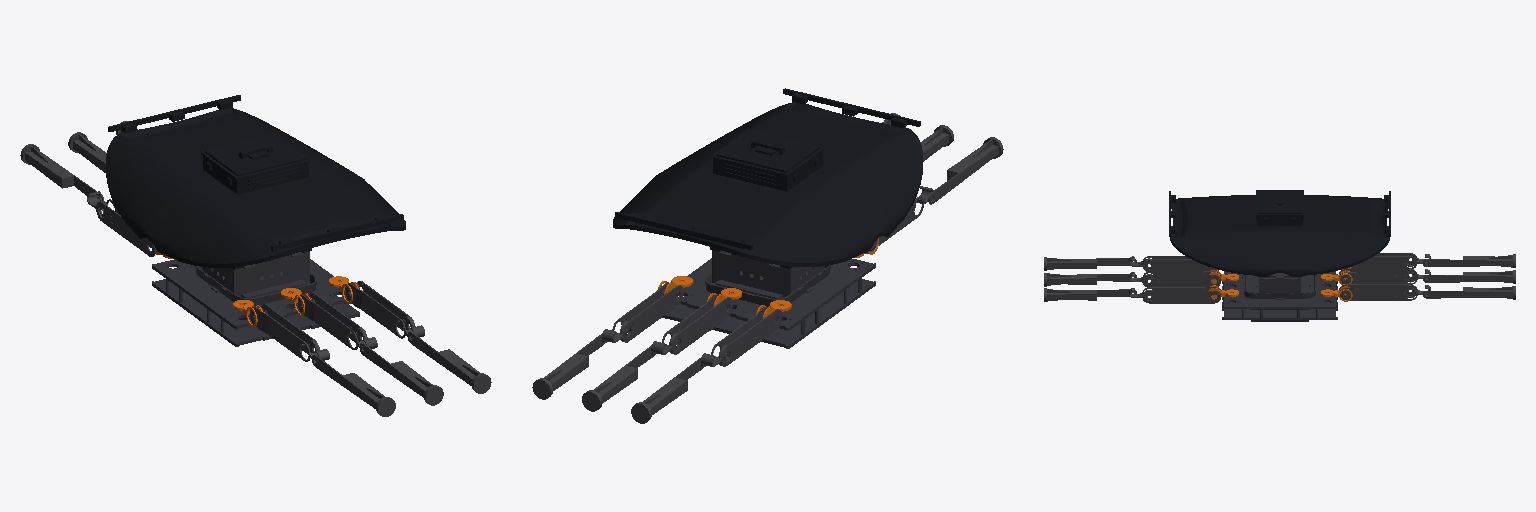
robot.urdf — hexapod:
<?xml version="1.0" encoding="utf-8"?>






<robot name="hexapod">

  
  <link name="base_link">
    <inertial>
      <origin xyz="0 0 0.05" rpy="0 0 0"/>
      <mass value="35.0"/>
      <inertia ixx="2.14" ixy="0.0" ixz="0.0" iyy="2.24" iyz="0.0" izz="4.02"/>
    </inertial>
    <visual>
      <origin xyz="0 0 0" rpy="0 0 0"/>
      <geometry>
        <mesh filename="meshes/base_link.stl" scale="0.001 0.001 0.001"/>
      </geometry>
      <material name="chassis_grey">
        <color rgba="0.25 0.25 0.28 1.0"/>
      </material>
    </visual>
    
    <visual>
      <origin xyz="0 0 0" rpy="0 0 0"/>
      <geometry>
        <mesh filename="meshes/top_cover.stl" scale="0.001 0.001 0.001"/>
      </geometry>
      <material name="carapace_carbon">
        <color rgba="0.13 0.14 0.16 1.0"/>
      </material>
    </visual>
    <collision>
      <origin xyz="0 0 0.02" rpy="0 0 0"/>
      <geometry>
        <box size="0.84 0.60 0.28"/>
      </geometry>
    </collision>
  </link>

  
  
  

  
  <joint name="LF_hip_joint" type="revolute">
    <origin xyz="0.320 0.410 0.1085" rpy="0 0 0"/>
    <parent link="base_link"/>
    <child link="LF_coxa"/>
    <axis xyz="0 0 1"/>
    <limit lower="-0.785" upper="0.785" effort="60.0" velocity="20.0"/>
    <dynamics damping="1.5" friction="0.1"/>
  </joint>

  <link name="LF_coxa">
    <inertial>
      <origin xyz="0 0.078 0.0" rpy="0 0 0"/>
      <mass value="2.02"/>
      <inertia ixx="0.009" ixy="0" ixz="0" iyy="0.007" iyz="0" izz="0.012"/>
    </inertial>
    <visual>
      <origin xyz="0 0 0" rpy="0 0 0"/>
      <geometry>
        <mesh filename="meshes/coxa_link.stl" scale="0.001 0.001 0.001"/>
      </geometry>
      <material name="accent_orange">
        <color rgba="0.85 0.45 0.1 1.0"/>
      </material>
    </visual>
    <collision>
      <origin xyz="0 0.078 0.0" rpy="0 0 0"/>
      <geometry>
        <box size="0.12 0.18 0.12"/>
      </geometry>
    </collision>
  </link>

  <joint name="LF_femur_joint" type="revolute">
    <origin xyz="0 0.157 0" rpy="0 0 0"/>
    <parent link="LF_coxa"/>
    <child link="LF_femur"/>
    <axis xyz="1 0 0"/>
    <limit lower="-1.047" upper="1.047" effort="60.0" velocity="20.0"/>
    <dynamics damping="2.0" friction="0.1"/>
  </joint>

  <link name="LF_femur">
    <inertial>
      <origin xyz="0 0.350 0.0" rpy="0 0 0"/>
      <mass value="3.49"/>
      <inertia ixx="0.018" ixy="0" ixz="0" iyy="0.082" iyz="0" izz="0.085"/>
    </inertial>
    <visual>
      <origin xyz="0 0 0" rpy="0 0 0"/>
      <geometry>
        <mesh filename="meshes/femur_link.stl" scale="0.001 0.001 0.001"/>
      </geometry>
      <material name="link_grey">
        <color rgba="0.3 0.3 0.32 1.0"/>
      </material>
    </visual>
    <collision>
      <origin xyz="0 0.350 0.0" rpy="1.5707963 0 0"/>
      <geometry>
        <cylinder radius="0.06" length="0.70"/>
      </geometry>
    </collision>
  </link>

  <joint name="LF_tibia_joint" type="revolute">
    <origin xyz="0 0.700 0" rpy="0 0 0"/>
    <parent link="LF_femur"/>
    <child link="LF_tibia"/>
    <axis xyz="1 0 0"/>
    <limit lower="-2.094" upper="0.349" effort="60.0" velocity="20.0"/>
    <dynamics damping="2.0" friction="0.1"/>
  </joint>

  <link name="LF_tibia">
    <inertial>
      <origin xyz="0 0.380 0.0" rpy="0 0 0"/>
      <mass value="4.71"/>
      <inertia ixx="0.215" ixy="0" ixz="0" iyy="0.218" iyz="0" izz="0.015"/>
    </inertial>
    <visual>
      <origin xyz="0 0 0" rpy="0 0 0"/>
      <geometry>
        <mesh filename="meshes/tibia_link.stl" scale="0.001 0.001 0.001"/>
      </geometry>
      <material name="link_grey"/>
    </visual>
    <collision>
      <origin xyz="0 0.380 0.0" rpy="1.5707963 0 0"/>
      <geometry>
        <cylinder radius="0.05" length="0.76"/>
      </geometry>
    </collision>
  </link>

  <joint name="LF_foot_joint" type="fixed">
    <origin xyz="0 0.764 0" rpy="0 0 0"/>
    <parent link="LF_tibia"/>
    <child link="LF_foot"/>
  </joint>

  <link name="LF_foot">
    <inertial>
      <origin xyz="0 0 0" rpy="0 0 0"/>
      <mass value="0.20"/>
      <inertia ixx="0.0003" ixy="0" ixz="0" iyy="0.0003" iyz="0" izz="0.0003"/>
    </inertial>
    <collision>
      <origin xyz="0 0 0" rpy="0 0 0"/>
      <geometry>
        <sphere radius="0.045"/>
      </geometry>
    </collision>
  </link>

  
  <joint name="LM_hip_joint" type="revolute">
    <origin xyz="0.000 0.410 0.1085" rpy="0 0 0"/>
    <parent link="base_link"/>
    <child link="LM_coxa"/>
    <axis xyz="0 0 1"/>
    <limit lower="-0.785" upper="0.785" effort="60.0" velocity="20.0"/>
    <dynamics damping="1.5" friction="0.1"/>
  </joint>

  <link name="LM_coxa">
    <inertial>
      <origin xyz="0 0.078 0.0" rpy="0 0 0"/>
      <mass value="2.02"/>
      <inertia ixx="0.009" ixy="0" ixz="0" iyy="0.007" iyz="0" izz="0.012"/>
    </inertial>
    <visual>
      <origin xyz="0 0 0" rpy="0 0 0"/>
      <geometry>
        <mesh filename="meshes/coxa_link.stl" scale="0.001 0.001 0.001"/>
      </geometry>
      <material name="accent_orange"/>
    </visual>
    <collision>
      <origin xyz="0 0.078 0.0" rpy="0 0 0"/>
      <geometry>
        <box size="0.12 0.18 0.12"/>
      </geometry>
    </collision>
  </link>

  <joint name="LM_femur_joint" type="revolute">
    <origin xyz="0 0.157 0" rpy="0 0 0"/>
    <parent link="LM_coxa"/>
    <child link="LM_femur"/>
    <axis xyz="1 0 0"/>
    <limit lower="-1.047" upper="1.047" effort="60.0" velocity="20.0"/>
    <dynamics damping="2.0" friction="0.1"/>
  </joint>

  <link name="LM_femur">
    <inertial>
      <origin xyz="0 0.350 0.0" rpy="0 0 0"/>
      <mass value="3.49"/>
      <inertia ixx="0.018" ixy="0" ixz="0" iyy="0.082" iyz="0" izz="0.085"/>
    </inertial>
    <visual>
      <origin xyz="0 0 0" rpy="0 0 0"/>
      <geometry>
        <mesh filename="meshes/femur_link.stl" scale="0.001 0.001 0.001"/>
      </geometry>
      <material name="link_grey"/>
    </visual>
    <collision>
      <origin xyz="0 0.350 0.0" rpy="1.5707963 0 0"/>
      <geometry>
        <cylinder radius="0.06" length="0.70"/>
      </geometry>
    </collision>
  </link>

  <joint name="LM_tibia_joint" type="revolute">
    <origin xyz="0 0.700 0" rpy="0 0 0"/>
    <parent link="LM_femur"/>
    <child link="LM_tibia"/>
    <axis xyz="1 0 0"/>
    <limit lower="-2.094" upper="0.349" effort="60.0" velocity="20.0"/>
    <dynamics damping="2.0" friction="0.1"/>
  </joint>

  <link name="LM_tibia">
    <inertial>
      <origin xyz="0 0.380 0.0" rpy="0 0 0"/>
      <mass value="4.71"/>
      <inertia ixx="0.215" ixy="0" ixz="0" iyy="0.218" iyz="0" izz="0.015"/>
    </inertial>
    <visual>
      <origin xyz="0 0 0" rpy="0 0 0"/>
      <geometry>
        <mesh filename="meshes/tibia_link.stl" scale="0.001 0.001 0.001"/>
      </geometry>
      <material name="link_grey"/>
    </visual>
    <collision>
      <origin xyz="0 0.380 0.0" rpy="1.5707963 0 0"/>
      <geometry>
        <cylinder radius="0.05" length="0.76"/>
      </geometry>
    </collision>
  </link>

  <joint name="LM_foot_joint" type="fixed">
    <origin xyz="0 0.764 0" rpy="0 0 0"/>
    <parent link="LM_tibia"/>
    <child link="LM_foot"/>
  </joint>

  <link name="LM_foot">
    <inertial>
      <origin xyz="0 0 0" rpy="0 0 0"/>
      <mass value="0.20"/>
      <inertia ixx="0.0003" ixy="0" ixz="0" iyy="0.0003" iyz="0" izz="0.0003"/>
    </inertial>
    <collision>
      <origin xyz="0 0 0" rpy="0 0 0"/>
      <geometry>
        <sphere radius="0.045"/>
      </geometry>
    </collision>
  </link>

  
  <joint name="LR_hip_joint" type="revolute">
    <origin xyz="-0.320 0.410 0.1085" rpy="0 0 0"/>
    <parent link="base_link"/>
    <child link="LR_coxa"/>
    <axis xyz="0 0 1"/>
    <limit lower="-0.785" upper="0.785" effort="60.0" velocity="20.0"/>
    <dynamics damping="1.5" friction="0.1"/>
  </joint>

  <link name="LR_coxa">
    <inertial>
      <origin xyz="0 0.078 0.0" rpy="0 0 0"/>
      <mass value="2.02"/>
      <inertia ixx="0.009" ixy="0" ixz="0" iyy="0.007" iyz="0" izz="0.012"/>
    </inertial>
    <visual>
      <origin xyz="0 0 0" rpy="0 0 0"/>
      <geometry>
        <mesh filename="meshes/coxa_link.stl" scale="0.001 0.001 0.001"/>
      </geometry>
      <material name="accent_orange"/>
    </visual>
    <collision>
      <origin xyz="0 0.078 0.0" rpy="0 0 0"/>
      <geometry>
        <box size="0.12 0.18 0.12"/>
      </geometry>
    </collision>
  </link>

  <joint name="LR_femur_joint" type="revolute">
    <origin xyz="0 0.157 0" rpy="0 0 0"/>
    <parent link="LR_coxa"/>
    <child link="LR_femur"/>
    <axis xyz="1 0 0"/>
    <limit lower="-1.047" upper="1.047" effort="60.0" velocity="20.0"/>
    <dynamics damping="2.0" friction="0.1"/>
  </joint>

  <link name="LR_femur">
    <inertial>
      <origin xyz="0 0.350 0.0" rpy="0 0 0"/>
      <mass value="3.49"/>
      <inertia ixx="0.018" ixy="0" ixz="0" iyy="0.082" iyz="0" izz="0.085"/>
    </inertial>
    <visual>
      <origin xyz="0 0 0" rpy="0 0 0"/>
      <geometry>
        <mesh filename="meshes/femur_link.stl" scale="0.001 0.001 0.001"/>
      </geometry>
      <material name="link_grey"/>
    </visual>
    <collision>
      <origin xyz="0 0.350 0.0" rpy="1.5707963 0 0"/>
      <geometry>
        <cylinder radius="0.06" length="0.70"/>
      </geometry>
    </collision>
  </link>

  <joint name="LR_tibia_joint" type="revolute">
    <origin xyz="0 0.700 0" rpy="0 0 0"/>
    <parent link="LR_femur"/>
    <child link="LR_tibia"/>
    <axis xyz="1 0 0"/>
    <limit lower="-2.094" upper="0.349" effort="60.0" velocity="20.0"/>
    <dynamics damping="2.0" friction="0.1"/>
  </joint>

  <link name="LR_tibia">
    <inertial>
      <origin xyz="0 0.380 0.0" rpy="0 0 0"/>
      <mass value="4.71"/>
      <inertia ixx="0.215" ixy="0" ixz="0" iyy="0.218" iyz="0" izz="0.015"/>
    </inertial>
    <visual>
      <origin xyz="0 0 0" rpy="0 0 0"/>
      <geometry>
        <mesh filename="meshes/tibia_link.stl" scale="0.001 0.001 0.001"/>
      </geometry>
      <material name="link_grey"/>
    </visual>
    <collision>
      <origin xyz="0 0.380 0.0" rpy="1.5707963 0 0"/>
      <geometry>
        <cylinder radius="0.05" length="0.76"/>
      </geometry>
    </collision>
  </link>

  <joint name="LR_foot_joint" type="fixed">
    <origin xyz="0 0.764 0" rpy="0 0 0"/>
    <parent link="LR_tibia"/>
    <child link="LR_foot"/>
  </joint>

  <link name="LR_foot">
    <inertial>
      <origin xyz="0 0 0" rpy="0 0 0"/>
      <mass value="0.20"/>
      <inertia ixx="0.0003" ixy="0" ixz="0" iyy="0.0003" iyz="0" izz="0.0003"/>
    </inertial>
    <collision>
      <origin xyz="0 0 0" rpy="0 0 0"/>
      <geometry>
        <sphere radius="0.045"/>
      </geometry>
    </collision>
  </link>

  
  
  
  

  
  <joint name="RF_hip_joint" type="revolute">
    <origin xyz="0.320 -0.410 0.1085" rpy="0 0 3.14159265"/>
    <parent link="base_link"/>
    <child link="RF_coxa"/>
    <axis xyz="0 0 1"/>
    <limit lower="-0.785" upper="0.785" effort="60.0" velocity="20.0"/>
    <dynamics damping="1.5" friction="0.1"/>
  </joint>

  <link name="RF_coxa">
    <inertial>
      <origin xyz="0 0.078 0.0" rpy="0 0 0"/>
      <mass value="2.02"/>
      <inertia ixx="0.009" ixy="0" ixz="0" iyy="0.007" iyz="0" izz="0.012"/>
    </inertial>
    <visual>
      <origin xyz="0 0 0" rpy="0 0 0"/>
      <geometry>
        <mesh filename="meshes/coxa_link.stl" scale="0.001 0.001 0.001"/>
      </geometry>
      <material name="accent_orange"/>
    </visual>
    <collision>
      <origin xyz="0 0.078 0.0" rpy="0 0 0"/>
      <geometry>
        <box size="0.12 0.18 0.12"/>
      </geometry>
    </collision>
  </link>

  <joint name="RF_femur_joint" type="revolute">
    <origin xyz="0 0.157 0" rpy="0 0 0"/>
    <parent link="RF_coxa"/>
    <child link="RF_femur"/>
    <axis xyz="1 0 0"/>
    <limit lower="-1.047" upper="1.047" effort="60.0" velocity="20.0"/>
    <dynamics damping="2.0" friction="0.1"/>
  </joint>

  <link name="RF_femur">
    <inertial>
      <origin xyz="0 0.350 0.0" rpy="0 0 0"/>
      <mass value="3.49"/>
      <inertia ixx="0.018" ixy="0" ixz="0" iyy="0.082" iyz="0" izz="0.085"/>
    </inertial>
    <visual>
      <origin xyz="0 0 0" rpy="0 0 0"/>
      <geometry>
        <mesh filename="meshes/femur_link.stl" scale="0.001 0.001 0.001"/>
      </geometry>
      <material name="link_grey"/>
    </visual>
    <collision>
      <origin xyz="0 0.350 0.0" rpy="1.5707963 0 0"/>
      <geometry>
        <cylinder radius="0.06" length="0.70"/>
      </geometry>
    </collision>
  </link>

  <joint name="RF_tibia_joint" type="revolute">
    <origin xyz="0 0.700 0" rpy="0 0 0"/>
    <parent link="RF_femur"/>
    <child link="RF_tibia"/>
    <axis xyz="1 0 0"/>
    <limit lower="-2.094" upper="0.349" effort="60.0" velocity="20.0"/>
    <dynamics damping="2.0" friction="0.1"/>
  </joint>

  <link name="RF_tibia">
    <inertial>
      <origin xyz="0 0.380 0.0" rpy="0 0 0"/>
      <mass value="4.71"/>
      <inertia ixx="0.215" ixy="0" ixz="0" iyy="0.218" iyz="0" izz="0.015"/>
    </inertial>
    <visual>
      <origin xyz="0 0 0" rpy="0 0 0"/>
      <geometry>
        <mesh filename="meshes/tibia_link.stl" scale="0.001 0.001 0.001"/>
      </geometry>
      <material name="link_grey"/>
    </visual>
    <collision>
      <origin xyz="0 0.380 0.0" rpy="1.5707963 0 0"/>
      <geometry>
        <cylinder radius="0.05" length="0.76"/>
      </geometry>
    </collision>
  </link>

  <joint name="RF_foot_joint" type="fixed">
    <origin xyz="0 0.764 0" rpy="0 0 0"/>
    <parent link="RF_tibia"/>
    <child link="RF_foot"/>
  </joint>

  <link name="RF_foot">
    <inertial>
      <origin xyz="0 0 0" rpy="0 0 0"/>
      <mass value="0.20"/>
      <inertia ixx="0.0003" ixy="0" ixz="0" iyy="0.0003" iyz="0" izz="0.0003"/>
    </inertial>
    <collision>
      <origin xyz="0 0 0" rpy="0 0 0"/>
      <geometry>
        <sphere radius="0.045"/>
      </geometry>
    </collision>
  </link>

  
  <joint name="RM_hip_joint" type="revolute">
    <origin xyz="0.000 -0.410 0.1085" rpy="0 0 3.14159265"/>
    <parent link="base_link"/>
    <child link="RM_coxa"/>
    <axis xyz="0 0 1"/>
    <limit lower="-0.785" upper="0.785" effort="60.0" velocity="20.0"/>
    <dynamics damping="1.5" friction="0.1"/>
  </joint>

  <link name="RM_coxa">
    <inertial>
      <origin xyz="0 0.078 0.0" rpy="0 0 0"/>
      <mass value="2.02"/>
      <inertia ixx="0.009" ixy="0" ixz="0" iyy="0.007" iyz="0" izz="0.012"/>
    </inertial>
    <visual>
      <origin xyz="0 0 0" rpy="0 0 0"/>
      <geometry>
        <mesh filename="meshes/coxa_link.stl" scale="0.001 0.001 0.001"/>
      </geometry>
      <material name="accent_orange"/>
    </visual>
    <collision>
      <origin xyz="0 0.078 0.0" rpy="0 0 0"/>
      <geometry>
        <box size="0.12 0.18 0.12"/>
      </geometry>
    </collision>
  </link>

  <joint name="RM_femur_joint" type="revolute">
    <origin xyz="0 0.157 0" rpy="0 0 0"/>
    <parent link="RM_coxa"/>
    <child link="RM_femur"/>
    <axis xyz="1 0 0"/>
    <limit lower="-1.047" upper="1.047" effort="60.0" velocity="20.0"/>
    <dynamics damping="2.0" friction="0.1"/>
  </joint>

  <link name="RM_femur">
    <inertial>
      <origin xyz="0 0.350 0.0" rpy="0 0 0"/>
      <mass value="3.49"/>
      <inertia ixx="0.018" ixy="0" ixz="0" iyy="0.082" iyz="0" izz="0.085"/>
    </inertial>
    <visual>
      <origin xyz="0 0 0" rpy="0 0 0"/>
      <geometry>
        <mesh filename="meshes/femur_link.stl" scale="0.001 0.001 0.001"/>
      </geometry>
      <material name="link_grey"/>
    </visual>
    <collision>
      <origin xyz="0 0.350 0.0" rpy="1.5707963 0 0"/>
      <geometry>
        <cylinder radius="0.06" length="0.70"/>
      </geometry>
    </collision>
  </link>

  <joint name="RM_tibia_joint" type="revolute">
    <origin xyz="0 0.700 0" rpy="0 0 0"/>
    <parent link="RM_femur"/>
    <child link="RM_tibia"/>
    <axis xyz="1 0 0"/>
    <limit lower="-2.094" upper="0.349" effort="60.0" velocity="20.0"/>
    <dynamics damping="2.0" friction="0.1"/>
  </joint>

  <link name="RM_tibia">
    <inertial>
      <origin xyz="0 0.380 0.0" rpy="0 0 0"/>
      <mass value="4.71"/>
      <inertia ixx="0.215" ixy="0" ixz="0" iyy="0.218" iyz="0" izz="0.015"/>
    </inertial>
    <visual>
      <origin xyz="0 0 0" rpy="0 0 0"/>
      <geometry>
        <mesh filename="meshes/tibia_link.stl" scale="0.001 0.001 0.001"/>
      </geometry>
      <material name="link_grey"/>
    </visual>
    <collision>
      <origin xyz="0 0.380 0.0" rpy="1.5707963 0 0"/>
      <geometry>
        <cylinder radius="0.05" length="0.76"/>
      </geometry>
    </collision>
  </link>

  <joint name="RM_foot_joint" type="fixed">
    <origin xyz="0 0.764 0" rpy="0 0 0"/>
    <parent link="RM_tibia"/>
    <child link="RM_foot"/>
  </joint>

  <link name="RM_foot">
    <inertial>
      <origin xyz="0 0 0" rpy="0 0 0"/>
      <mass value="0.20"/>
      <inertia ixx="0.0003" ixy="0" ixz="0" iyy="0.0003" iyz="0" izz="0.0003"/>
    </inertial>
    <collision>
      <origin xyz="0 0 0" rpy="0 0 0"/>
      <geometry>
        <sphere radius="0.045"/>
      </geometry>
    </collision>
  </link>

  
  <joint name="RR_hip_joint" type="revolute">
    <origin xyz="-0.320 -0.410 0.1085" rpy="0 0 3.14159265"/>
    <parent link="base_link"/>
    <child link="RR_coxa"/>
    <axis xyz="0 0 1"/>
    <limit lower="-0.785" upper="0.785" effort="60.0" velocity="20.0"/>
    <dynamics damping="1.5" friction="0.1"/>
  </joint>

  <link name="RR_coxa">
    <inertial>
      <origin xyz="0 0.078 0.0" rpy="0 0 0"/>
      <mass value="2.02"/>
      <inertia ixx="0.009" ixy="0" ixz="0" iyy="0.007" iyz="0" izz="0.012"/>
    </inertial>
    <visual>
      <origin xyz="0 0 0" rpy="0 0 0"/>
      <geometry>
        <mesh filename="meshes/coxa_link.stl" scale="0.001 0.001 0.001"/>
      </geometry>
      <material name="accent_orange"/>
    </visual>
    <collision>
      <origin xyz="0 0.078 0.0" rpy="0 0 0"/>
      <geometry>
        <box size="0.12 0.18 0.12"/>
      </geometry>
    </collision>
  </link>

  <joint name="RR_femur_joint" type="revolute">
    <origin xyz="0 0.157 0" rpy="0 0 0"/>
    <parent link="RR_coxa"/>
    <child link="RR_femur"/>
    <axis xyz="1 0 0"/>
    <limit lower="-1.047" upper="1.047" effort="60.0" velocity="20.0"/>
    <dynamics damping="2.0" friction="0.1"/>
  </joint>

  <link name="RR_femur">
    <inertial>
      <origin xyz="0 0.350 0.0" rpy="0 0 0"/>
      <mass value="3.49"/>
      <inertia ixx="0.018" ixy="0" ixz="0" iyy="0.082" iyz="0" izz="0.085"/>
    </inertial>
    <visual>
      <origin xyz="0 0 0" rpy="0 0 0"/>
      <geometry>
        <mesh filename="meshes/femur_link.stl" scale="0.001 0.001 0.001"/>
      </geometry>
      <material name="link_grey"/>
    </visual>
    <collision>
      <origin xyz="0 0.350 0.0" rpy="1.5707963 0 0"/>
      <geometry>
        <cylinder radius="0.06" length="0.70"/>
      </geometry>
    </collision>
  </link>

  <joint name="RR_tibia_joint" type="revolute">
    <origin xyz="0 0.700 0" rpy="0 0 0"/>
    <parent link="RR_femur"/>
    <child link="RR_tibia"/>
    <axis xyz="1 0 0"/>
    <limit lower="-2.094" upper="0.349" effort="60.0" velocity="20.0"/>
    <dynamics damping="2.0" friction="0.1"/>
  </joint>

  <link name="RR_tibia">
    <inertial>
      <origin xyz="0 0.380 0.0" rpy="0 0 0"/>
      <mass value="4.71"/>
      <inertia ixx="0.215" ixy="0" ixz="0" iyy="0.218" iyz="0" izz="0.015"/>
    </inertial>
    <visual>
      <origin xyz="0 0 0" rpy="0 0 0"/>
      <geometry>
        <mesh filename="meshes/tibia_link.stl" scale="0.001 0.001 0.001"/>
      </geometry>
      <material name="link_grey"/>
    </visual>
    <collision>
      <origin xyz="0 0.380 0.0" rpy="1.5707963 0 0"/>
      <geometry>
        <cylinder radius="0.05" length="0.76"/>
      </geometry>
    </collision>
  </link>

  <joint name="RR_foot_joint" type="fixed">
    <origin xyz="0 0.764 0" rpy="0 0 0"/>
    <parent link="RR_tibia"/>
    <child link="RR_foot"/>
  </joint>

  <link name="RR_foot">
    <inertial>
      <origin xyz="0 0 0" rpy="0 0 0"/>
      <mass value="0.20"/>
      <inertia ixx="0.0003" ixy="0" ixz="0" iyy="0.0003" iyz="0" izz="0.0003"/>
    </inertial>
    <collision>
      <origin xyz="0 0 0" rpy="0 0 0"/>
      <geometry>
        <sphere radius="0.045"/>
      </geometry>
    </collision>
  </link>

</robot>

--- What the picture shows (computed from the rendered views, not written in the file) ---
The picture shows the robot from 3 angles, left to right: view 1: azimuth 30°, elevation 25°; view 2: azimuth 150°, elevation 25°; view 3: azimuth 270°, elevation 25°; orthographic projection.
Model hexapod with 25 links and 24 joints (18 revolute, 6 fixed), rooted at base_link, posed every joint at zero.
Visible links, largest first — view 1: base_link, RF_femur, RM_femur, RR_femur, RM_tibia, RF_tibia, RR_tibia, LR_tibia, LR_femur, LM_tibia; view 2: base_link, LM_femur, LR_femur, LF_femur, RR_tibia, LR_tibia, LF_tibia, LM_tibia, RM_tibia, RR_femur; view 3: base_link, RF_femur, LF_femur, RM_femur, LM_femur, RR_femur, LR_femur, LR_tibia, LM_tibia, LF_tibia, RM_tibia, RR_tibia (+1 smaller).
Link boxes in pixels (bbox=[...]): base_link: bbox=[106, 95, 405, 346]; RF_femur: bbox=[345, 281, 424, 338]; RM_femur: bbox=[298, 292, 377, 349]; RR_femur: bbox=[250, 304, 329, 361]; RM_tibia: bbox=[360, 343, 443, 405]; RF_tibia: bbox=[407, 331, 491, 393]; RR_tibia: bbox=[312, 355, 395, 416]; LR_tibia: bbox=[20, 144, 104, 201]; LR_femur: bbox=[87, 191, 162, 256]; LM_tibia: bbox=[68, 132, 106, 172]; base_link: bbox=[613, 88, 922, 348]; LM_femur: bbox=[651, 294, 732, 354]; LR_femur: bbox=[701, 306, 781, 366]; LF_femur: bbox=[602, 282, 683, 342]; RR_tibia: bbox=[928, 137, 1003, 204]; LR_tibia: bbox=[631, 358, 705, 423]; LF_tibia: bbox=[532, 333, 607, 399]; LM_tibia: bbox=[582, 345, 656, 411]; RM_tibia: bbox=[920, 125, 953, 161]; RR_femur: bbox=[865, 186, 933, 253]; base_link: bbox=[1169, 190, 1390, 321]; RF_femur: bbox=[1129, 287, 1220, 303]; LF_femur: bbox=[1339, 284, 1430, 300]; RM_femur: bbox=[1129, 271, 1220, 287]; LM_femur: bbox=[1339, 269, 1430, 284]; RR_femur: bbox=[1129, 256, 1218, 271]; LR_femur: bbox=[1345, 253, 1430, 268]; LR_tibia: bbox=[1423, 254, 1515, 267]; LM_tibia: bbox=[1423, 270, 1515, 283]; LF_tibia: bbox=[1423, 286, 1515, 299]; RM_tibia: bbox=[1044, 273, 1136, 286]; RR_tibia: bbox=[1044, 257, 1136, 270].
Size in the robot's own frame: 1.44 by 4.06 by 1.08 metres.
20 mesh visuals loaded from 5 distinct referenced files (5 binary STL).
